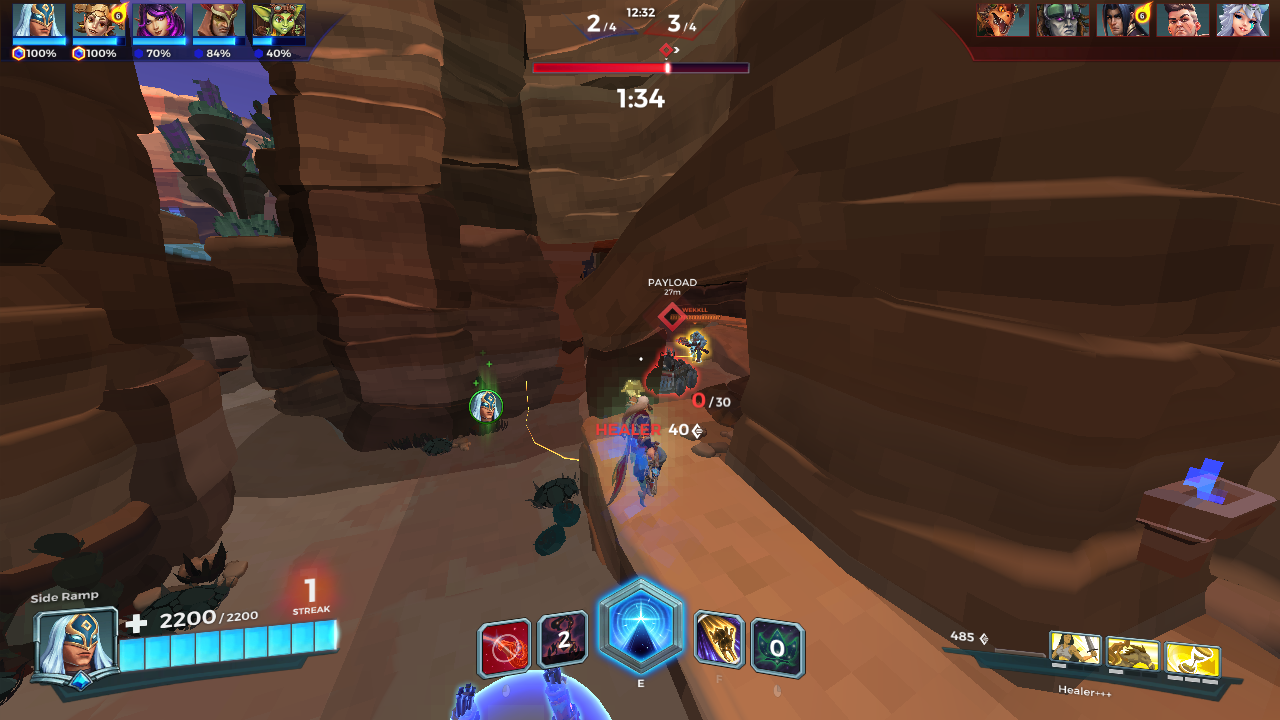model: (678, 329, 709, 364)
